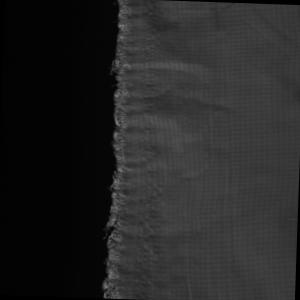Damage: (88, 1, 168, 300)
